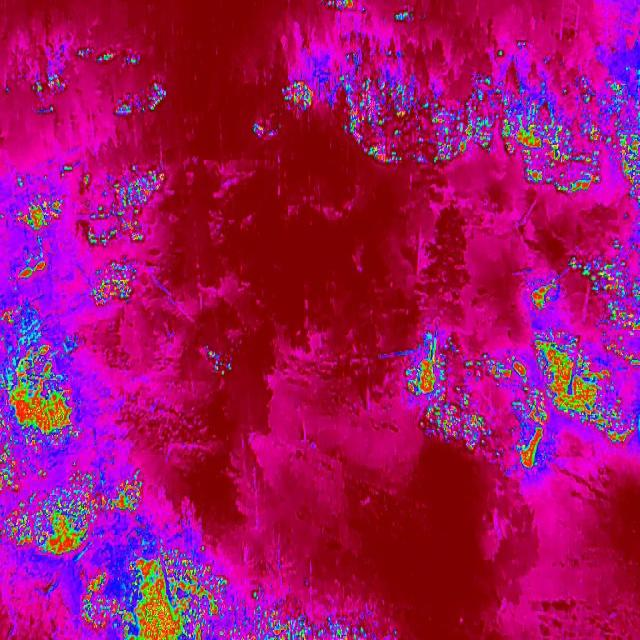fire: (0, 444, 150, 566), (333, 76, 502, 169), (78, 158, 166, 310), (533, 331, 638, 458), (502, 76, 611, 198), (27, 36, 168, 122), (115, 548, 225, 638), (0, 336, 80, 442), (0, 166, 68, 286), (218, 582, 351, 640), (420, 392, 498, 458), (611, 78, 640, 220), (512, 390, 550, 472), (458, 350, 532, 389), (563, 255, 629, 297), (605, 301, 640, 367), (78, 572, 114, 633), (531, 268, 568, 318), (408, 350, 442, 399), (282, 82, 316, 116), (201, 344, 235, 378), (601, 301, 638, 328), (321, 0, 362, 16), (248, 120, 276, 142), (0, 304, 23, 326)
